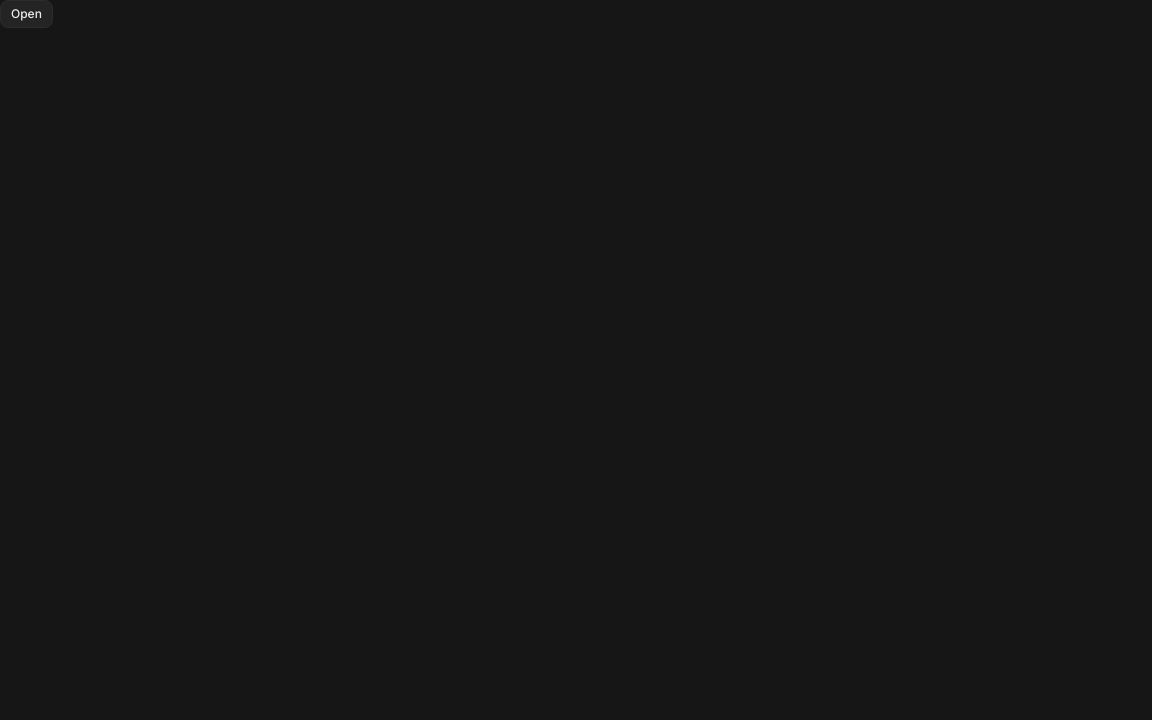
PickerMenu › creating › steps back from the name field on Escape instead of closing
The width and height of the screenshot is (1152, 720).
Click the button "Open".
click(26, 14)  # box 0,0 -> 53,28
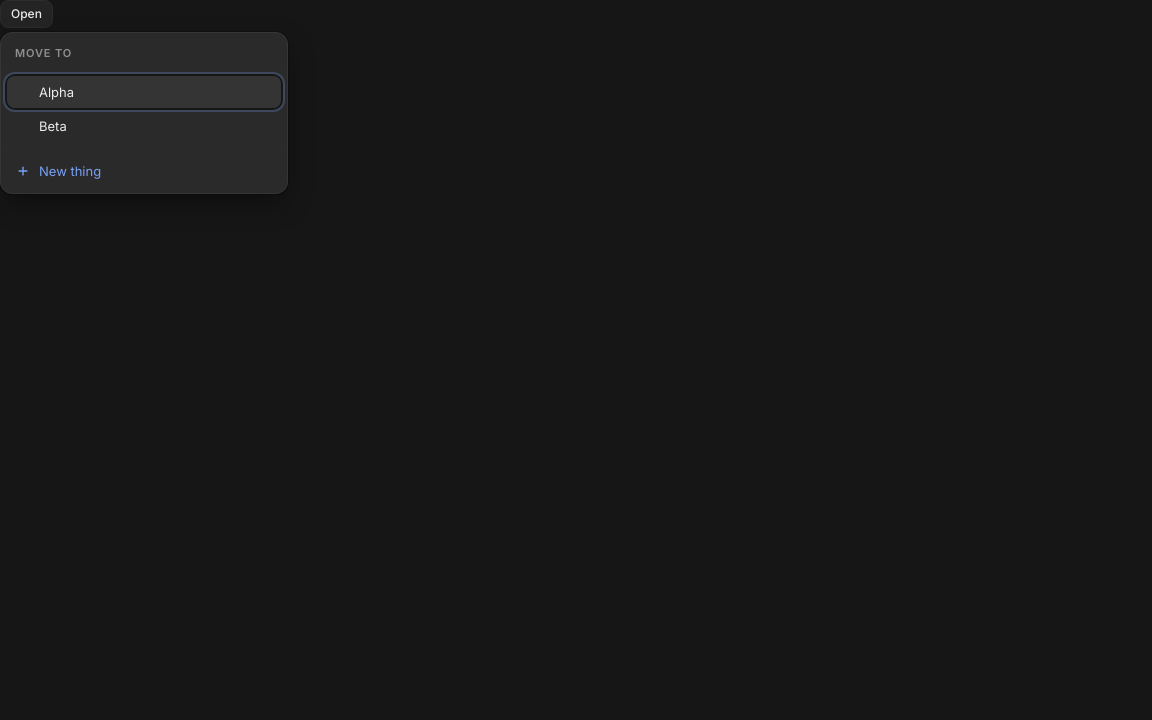
Click the button "New thing".
click(70, 171)  # box 7,155 -> 281,187
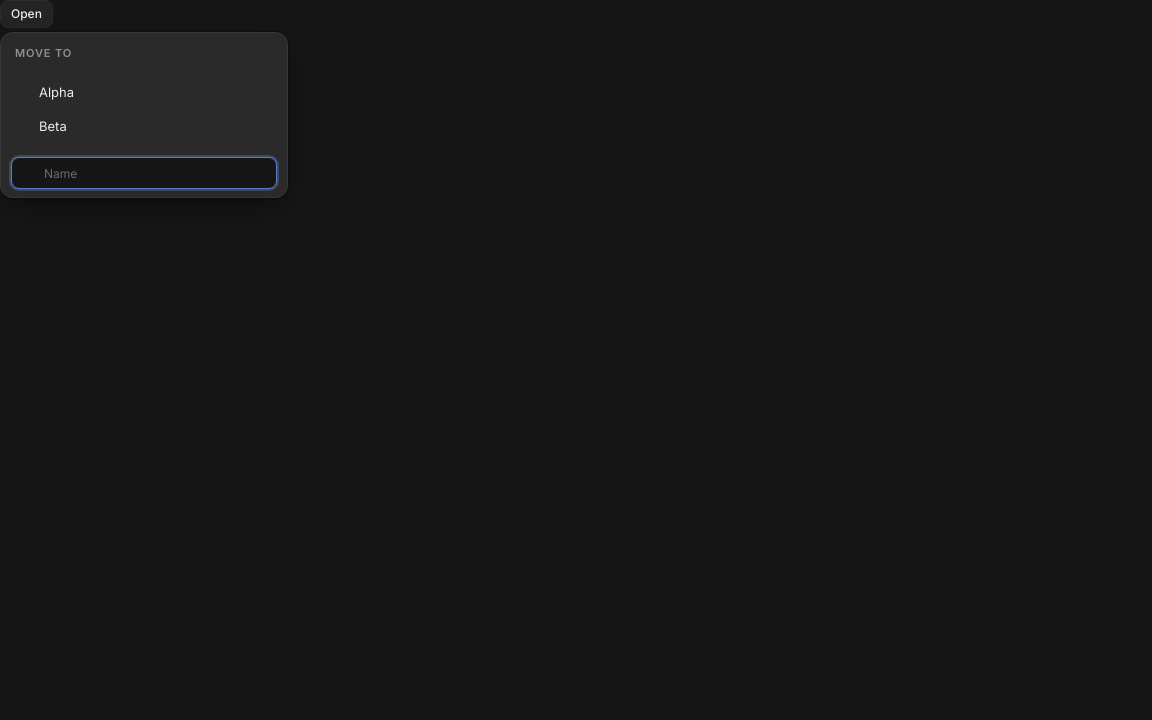
Press Escape in the field named "New thing", box 11,157 -> 277,189
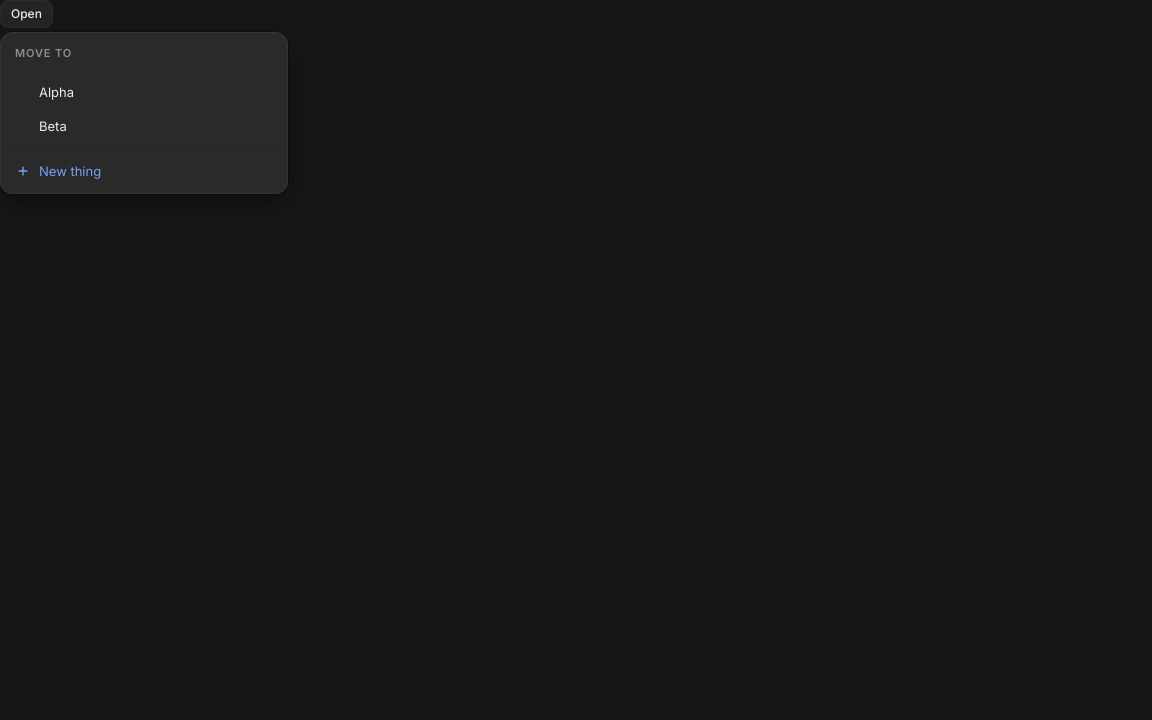
Check: the button "New thing" is shown, box 7,155 -> 281,187
